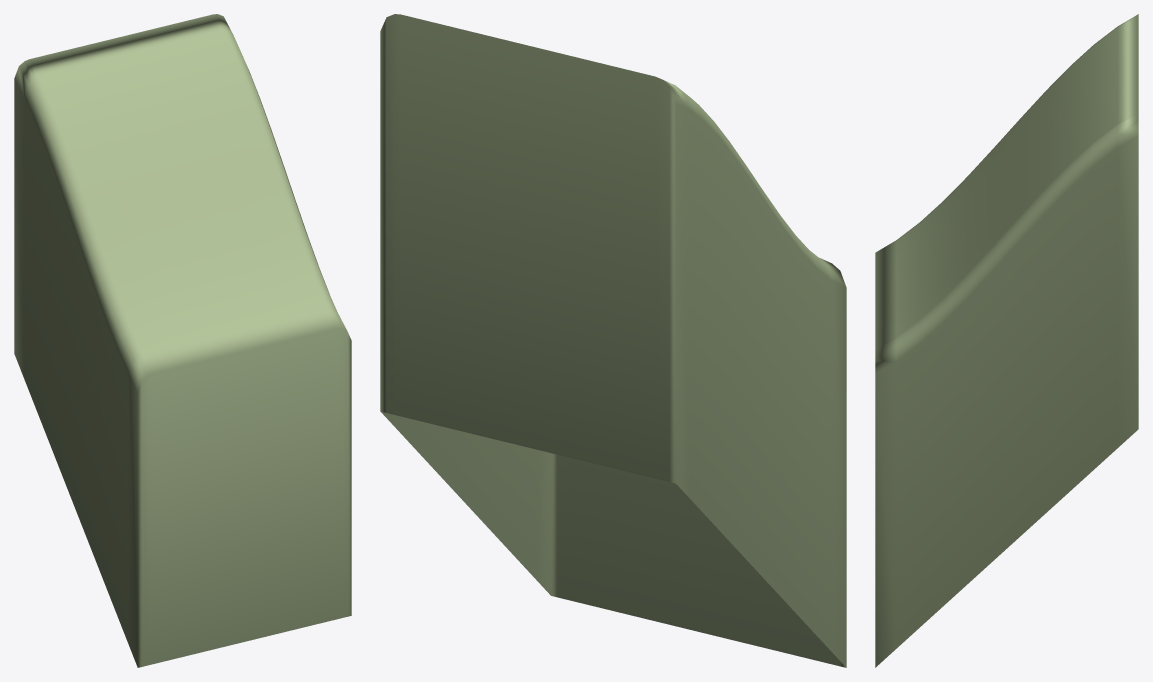
Rendered from ground-ramp-lr-10.glb.
3 views of the same model, side by side, from view 1: azimuth 30°, elevation 25°; view 2: azimuth 150°, elevation 25°; view 3: azimuth 270°, elevation 25° (orthographic). The views are drawn at different scales.
Parts seen in each view (by area): view 1: ground-ramp-lr-10; view 2: ground-ramp-lr-10; view 3: ground-ramp-lr-10.
Boxes of the visible parts, left/top/right/bottom form: ground-ramp-lr-10: left=14, top=14, right=351, bottom=667; ground-ramp-lr-10: left=380, top=14, right=846, bottom=667; ground-ramp-lr-10: left=875, top=14, right=1138, bottom=667.
Bounding box in the file's own units: 1 × 2.3 × 1.
